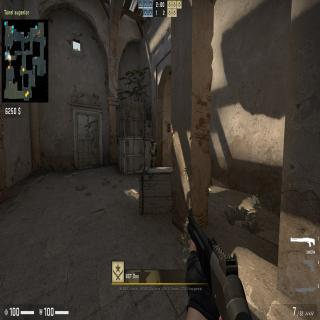T-Head: (150, 139, 154, 146)
